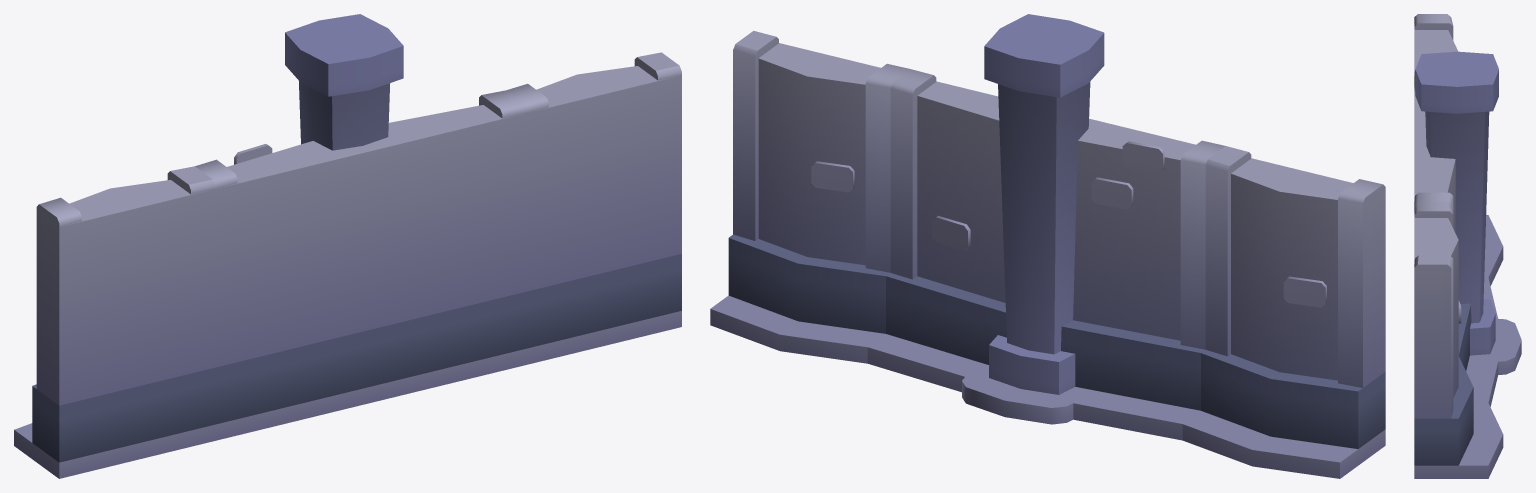
File: Corridor-Wide-Lowered.fbx
3 renders of one model, left to right at view 1: azimuth 30°, elevation 25°; view 2: azimuth 150°, elevation 25°; view 3: azimuth 270°, elevation 25°, orthographic. The views are drawn at different scales.
Parts seen in each view (by area): view 1: corridor-wide.004; view 2: corridor-wide.004; view 3: corridor-wide.004.
Boxes of the visible parts, left/top/right/bottom form: corridor-wide.004: left=14, top=14, right=681, bottom=478; corridor-wide.004: left=710, top=14, right=1385, bottom=478; corridor-wide.004: left=1414, top=14, right=1521, bottom=478.
Bounding box in the file's own units: 320 × 169 × 58.08.
